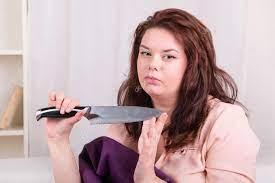Knife: (36, 103, 163, 124)
